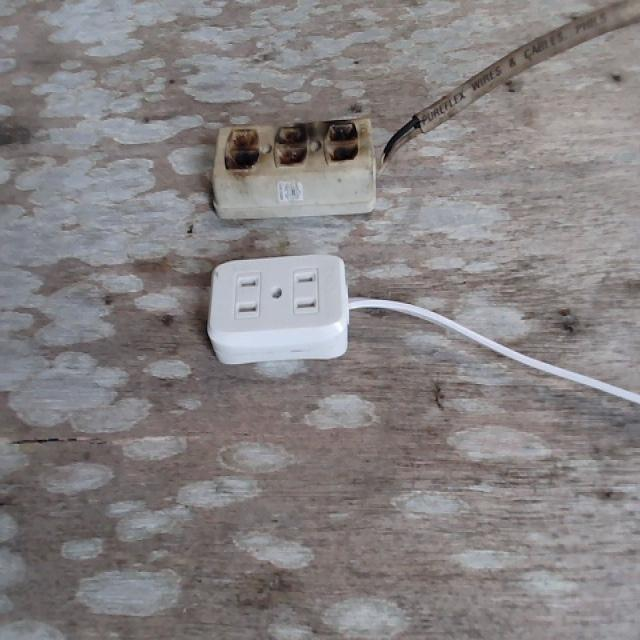-: (217, 119, 363, 177)
